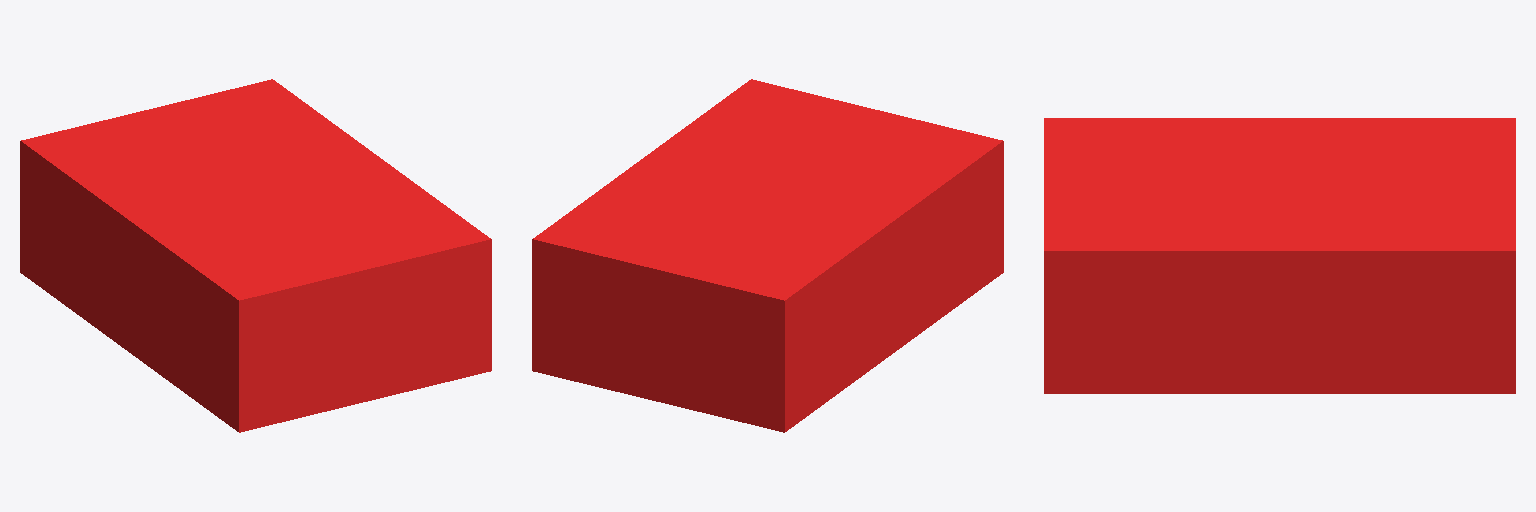
robot.urdf — robot_3d:
<?xml version="1.0" ?>
<!-- =================================================================================== -->
<!-- |    This document was autogenerated by xacro from camera_description/urdf/robots/robot_3d.urdf.xacro | -->
<!-- |    EDITING THIS FILE BY HAND IS NOT RECOMMENDED                                 | -->
<!-- =================================================================================== -->
<robot name="robot_3d" xmlns:gz="http://gazebosim.org/schema">
  <gazebo>
    <!-- use VelocityControl plugin -->
    <plugin filename="gz-sim-velocity-control-system" name="gz::sim::systems::VelocityControl">
      <topic>cmd_vel</topic>
      <initial_linear>0 0 0</initial_linear>
      <initial_angular>0 0 0</initial_angular>
    </plugin>
    <plugin filename="gz-sim-odometry-publisher-system" name="gz::sim::systems::OdometryPublisher">
      <dimensions>3</dimensions>
      <odom_topic>odom</odom_topic>
      <odom_frame>odom</odom_frame>
      <robot_base_frame>dummy_link</robot_base_frame>
      <publish_tf>true</publish_tf>
      <tf_topic>tf</tf_topic>
      <odom_publish_frequency>30</odom_publish_frequency>
      <xyz_offset>0 0 0</xyz_offset>
      <rpy_offset>0 0 0</rpy_offset>
    </plugin>
  </gazebo>
  <gazebo reference="camera_link">
    <sensor name="rgbd_camera" type="rgbd_camera">
      <camera>
        <horizontal_fov>1.25</horizontal_fov>
        <image>
          <width>640</width>
          <height>480</height>
        </image>
        <clip>
          <near>0.3</near>
          <far>15</far>
        </clip>
        <noise>
          <type>gaussian</type>
          <!-- Noise is sampled independently per pixel on each frame.
               That pixel's noise value is added to each of its color
               channels, which at that point lie in the range [0,1]. -->
          <mean>0.0</mean>
          <stddev>0.0025</stddev>
        </noise>
        <optical_frame_id>camera_link</optical_frame_id>
      </camera>
      <always_on>1</always_on>
      <update_rate>30</update_rate>
      <visualize>true</visualize>
      <topic>camera</topic>
      <gz_frame_id>camera_link</gz_frame_id>
    </sensor>
  </gazebo>
  <link name="camera_link">
    <visual>
      <origin rpy="1.5707963267948966 0.0 1.5707963267948966" xyz="0 0 0"/>
      <geometry>
        <mesh filename="file://[local-path]/ros2_ws/install/camera_description/share/camera_description/meshes/intel_realsense/visual/d435.stl"/>
      </geometry>
      <material name="aluminum">
        <color rgba="0.5 0.2 0.2 1"/>
      </material>
    </visual>
    <inertial>
      <mass value="0.01"/>
      <origin rpy="0 0 0" xyz="0 0 0"/>
      <inertia ixx="0.003881243" ixy="0.0" ixz="0.0" iyy="0.00049894" iyz="0.0" izz="0.003879257"/>
    </inertial>
  </link>
  <joint name="camera_joint" type="fixed">
    <parent link="dummy_link"/>
    <child link="camera_link"/>
    <origin rpy="0 0 0" xyz="0.07 0 0"/>
  </joint>
  <joint name="camera_depth_joint" type="fixed">
    <origin rpy="0 0 0" xyz="0 0 0"/>
    <parent link="camera_link"/>
    <child link="camera_depth_frame"/>
  </joint>
  <link name="camera_depth_frame"/>
  <joint name="camera_depth_optical_joint" type="fixed">
    <origin rpy="-1.5707963267948966 0 -1.5707963267948966" xyz="0 0 0"/>
    <parent link="camera_depth_frame"/>
    <child link="camera_depth_optical_frame"/>
  </joint>
  <link name="camera_depth_optical_frame"/>
  <joint name="camera_infra1_joint" type="fixed">
    <origin rpy="0 0 0" xyz="0 0 0"/>
    <parent link="camera_link"/>
    <child link="camera_infra1_frame"/>
  </joint>
  <link name="camera_infra1_frame"/>
  <joint name="camera_infra1_optical_joint" type="fixed">
    <origin rpy="-1.5707963267948966 0 -1.5707963267948966" xyz="0 0 0"/>
    <parent link="camera_infra1_frame"/>
    <child link="camera_infra1_optical_frame"/>
  </joint>
  <link name="camera_infra1_optical_frame"/>
  <joint name="camera_infra2_joint" type="fixed">
    <origin rpy="0 0 0" xyz="0 -0.05 0"/>
    <parent link="camera_link"/>
    <child link="camera_infra2_frame"/>
  </joint>
  <link name="camera_infra2_frame"/>
  <joint name="camera_infra2_optical_joint" type="fixed">
    <origin rpy="-1.5707963267948966 0 -1.5707963267948966" xyz="0 0 0"/>
    <parent link="camera_infra2_frame"/>
    <child link="camera_infra2_optical_frame"/>
  </joint>
  <link name="camera_infra2_optical_frame"/>
  <joint name="camera_color_joint" type="fixed">
    <origin rpy="0 0 0" xyz="0 0.015 0"/>
    <parent link="camera_link"/>
    <child link="camera_color_frame"/>
  </joint>
  <link name="camera_color_frame"/>
  <joint name="camera_color_optical_joint" type="fixed">
    <origin rpy="-1.5707963267948966 0 -1.5707963267948966" xyz="0 0 0"/>
    <parent link="camera_color_frame"/>
    <child link="camera_color_optical_frame"/>
  </joint>
  <link name="camera_color_optical_frame"/>
  <!-- Define the new root link (dummy_link) -->
  <link name="dummy_link">
    <gravity>0</gravity>
    <visual>
      <geometry>
        <box size="0.001 0.001 0.001"/>
      </geometry>
      <material name="transparent">
        <color rgba="0 0 0 0"/>
        <!-- Making it invisible -->
      </material>
    </visual>
  </link>
  <link name="base_link">
    <gravity>0</gravity>
    <inertial>
      <origin rpy="0 0 0" xyz="0 0 0"/>
      <mass value="1.0"/>
      <inertia ixx="0.1" ixy="0" ixz="0" iyy="0.1" iyz="0" izz="0.1"/>
    </inertial>
    <collision>
      <origin rpy="0 0 0" xyz="0 0 0"/>
      <geometry>
        <box size="0.1 0.15 0.05"/>
      </geometry>
    </collision>
    <visual>
      <origin rpy="0 0 0" xyz="0 0 0"/>
      <geometry>
        <box size="0.1 0.15 0.05"/>
      </geometry>
      <material name="red">
        <color rgba="1 0.2 0.2 1.0"/>
      </material>
    </visual>
  </link>
  <!--> Fixed joint connecting dummy_link to base_link -->
  <joint name="dummy_to_base" type="fixed">
    <gravity>0</gravity>
    <parent link="dummy_link"/>
    <child link="base_link"/>
    <origin rpy="0 0 0" xyz="0 0 0"/>
  </joint>
  <gazebo reference="base_link">
    <gravity>0</gravity>
  </gazebo>
  <gazebo reference="camera_link">
    <material>Gazebo/Blue</material>
  </gazebo>
</robot>

--- Render facts (derived) ---
Views: 3 orthographic renders of the robot side by side, from view 1: azimuth 30°, elevation 25°; view 2: azimuth 150°, elevation 25°; view 3: azimuth 270°, elevation 25°.
Robot: robot_3d — 11 links, 10 joints (10 fixed); root link dummy_link; default pose: all joints at 0.
Links seen in each view (by area): view 1: base_link; view 2: base_link; view 3: base_link.
Link boxes in pixels (box(x1,y1,x2,y2)): base_link: box(20, 79, 491, 432); base_link: box(532, 79, 1003, 432); base_link: box(1044, 118, 1515, 393).
Bounding box of the posed robot: 0.1 × 0.15 × 0.05 m (x, y, z).
Geometry: only primitive shapes (box / cylinder / sphere) drawn; not drawn: 1 mesh visual (reference in a form the renderer does not follow).